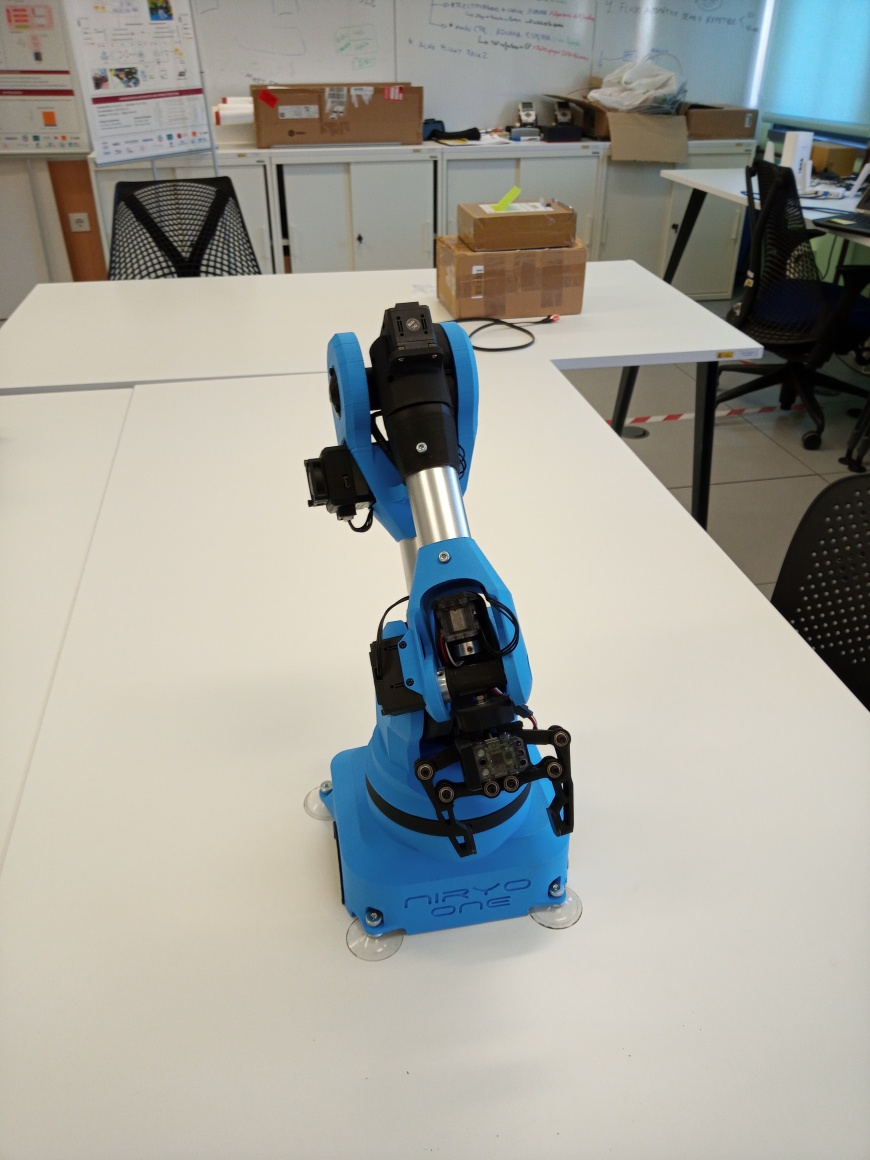robot: (301, 299, 588, 964)
